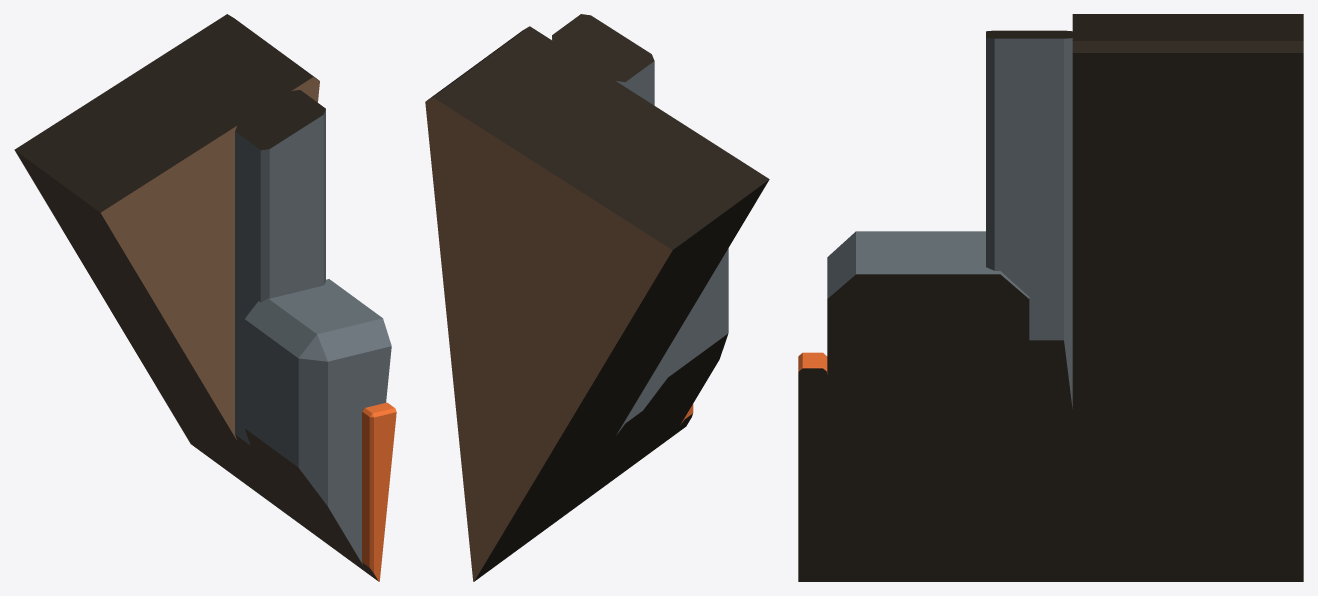
File: SM_DoorShard_02_28.fbx
The picture shows the model from 3 angles, left to right: view 1: azimuth 30°, elevation 25°; view 2: azimuth 150°, elevation 25°; view 3: azimuth 270°, elevation 25°; orthographic projection. The views are drawn at different scales.
Parts seen in each view (by area): view 1: SM_DoorShard_02_28; view 2: SM_DoorShard_02_28; view 3: SM_DoorShard_02_28.
Part boxes in pixels (box(x1,y1,x2,y2)): SM_DoorShard_02_28: box(14, 14, 396, 581); SM_DoorShard_02_28: box(425, 14, 769, 581); SM_DoorShard_02_28: box(798, 14, 1303, 581).
Size of the model in its own units: 23.56 by 35 by 43.18.
